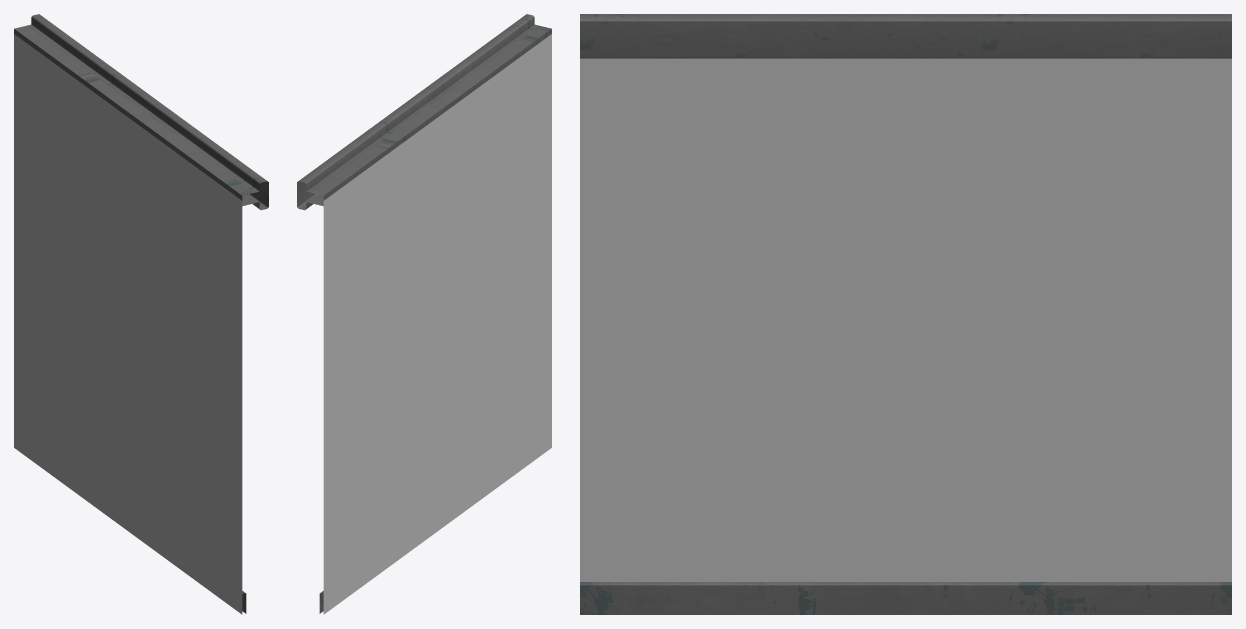
Rendered from SM_WallA_3M.fbx.
3 views of the same model, side by side, from view 1: azimuth 30°, elevation 25°; view 2: azimuth 150°, elevation 25°; view 3: azimuth 270°, elevation 25° (orthographic). The views are drawn at different scales.
Visible parts, largest first — view 1: SM_WallA_3M; view 2: SM_WallA_3M; view 3: SM_WallA_3M.
Boxes of the visible parts, box(x1,y1,x2,y2) form: SM_WallA_3M: box(14, 14, 268, 614); SM_WallA_3M: box(297, 14, 551, 614); SM_WallA_3M: box(580, 14, 1231, 614).
Size of the model in its own units: 20 by 310 by 300.
